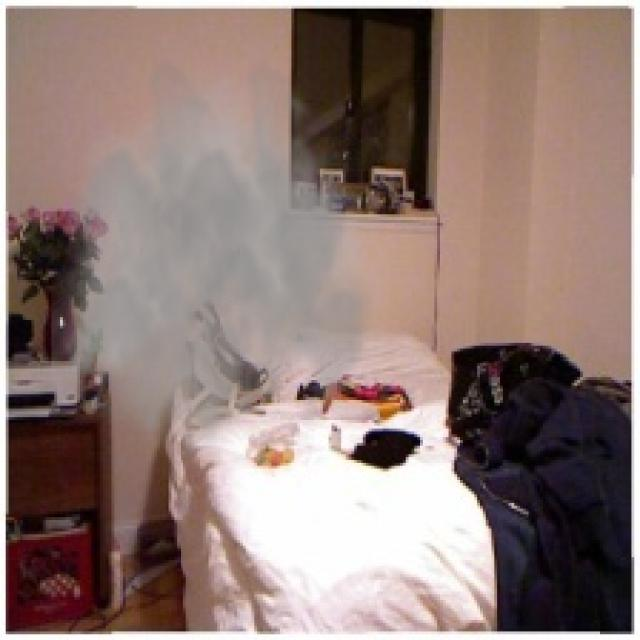smoke: (51, 54, 400, 466)
